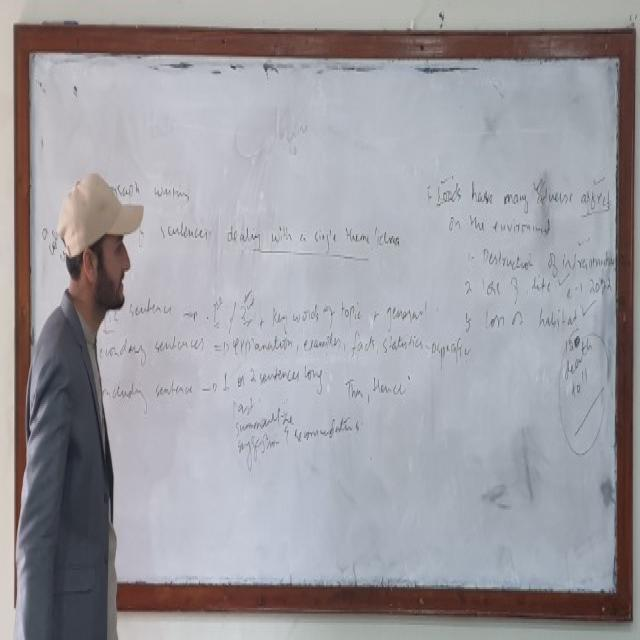Instructor: (24, 160, 135, 640)
White-board: (19, 34, 626, 611)
